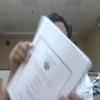notebook: (5, 14, 92, 99)
